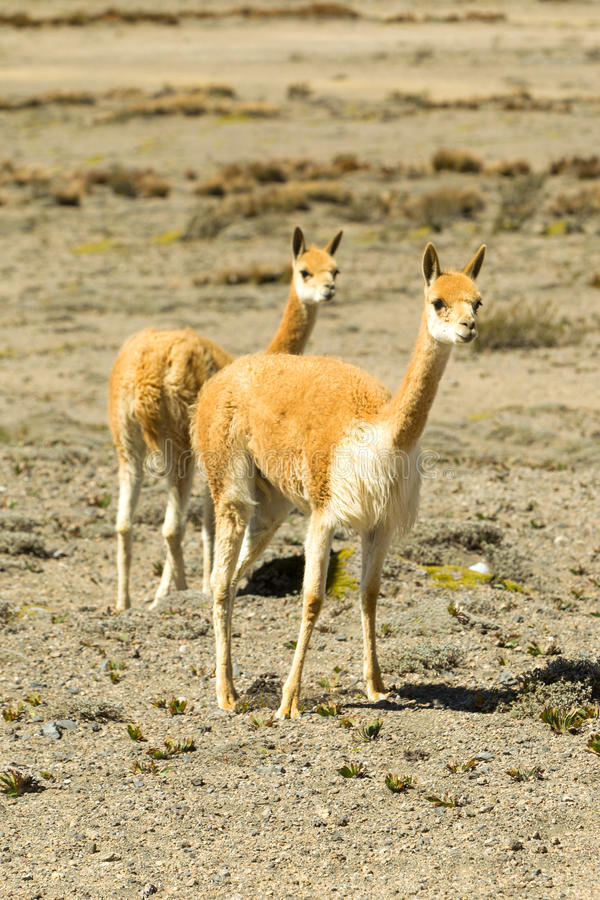eye: (293, 261, 328, 288), (420, 288, 444, 315), (467, 294, 485, 314)
mouth: (453, 321, 485, 353), (319, 284, 339, 307)
